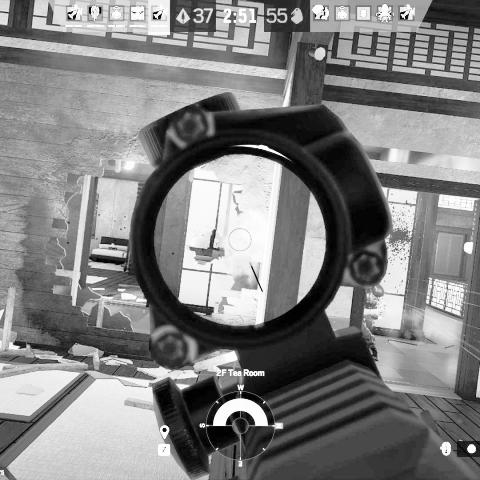Character: (360, 282, 389, 363)
Head: (372, 284, 386, 298)
